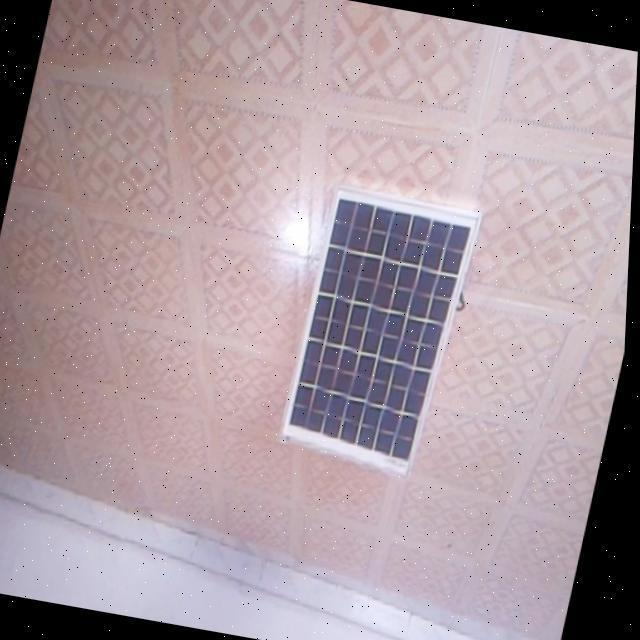Normal Solar Panel: (280, 186, 484, 478)
